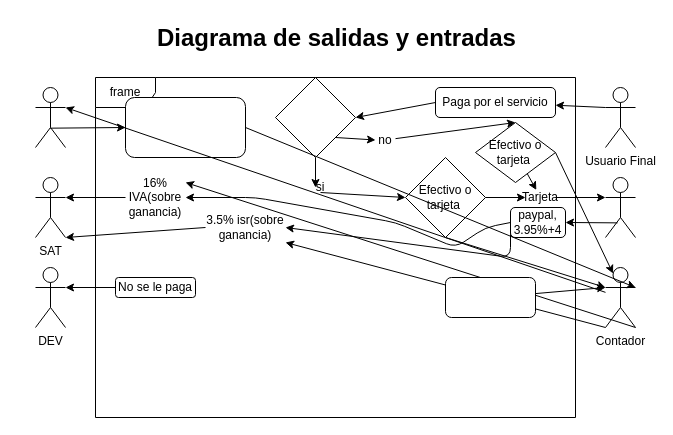
This 673x435 diagram has some shape labels left out. Here are the shapes that lost their labels. From the top down, the centre of each, then its label:
At pixel 50 117: "Inversionista".
At pixel 185 127: "Invierte, con un interes anual de 25% fijo a pagos mensuales".
At pixel 315 117: "Factura".
At pixel 620 207: "API".
At pixel 490 297: "Costo de 1000 mensuales".
